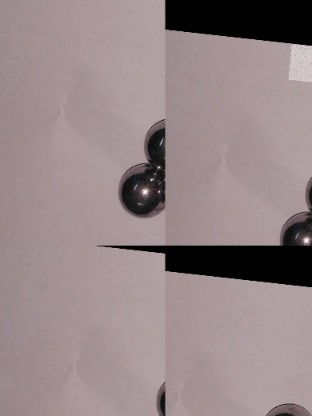ironball: (117, 160, 164, 217), (273, 209, 312, 244), (144, 114, 164, 173), (262, 392, 311, 415)
